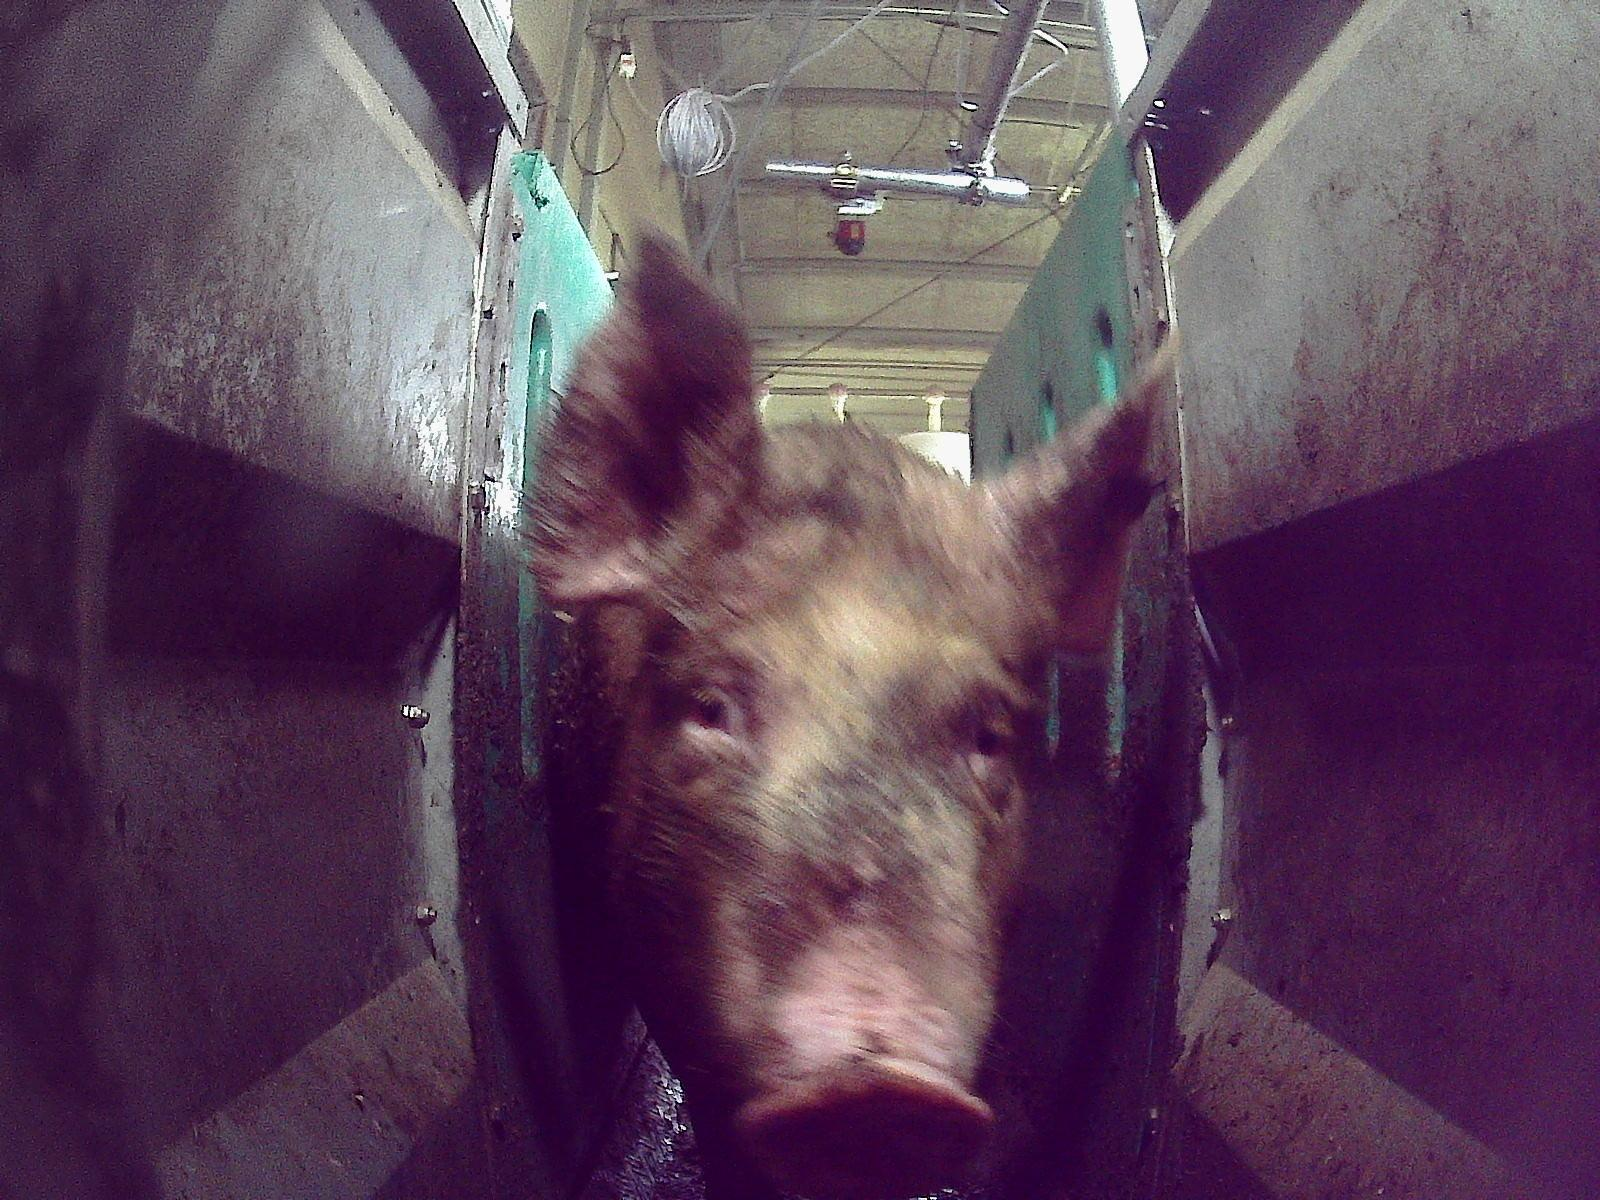Face: (601, 480, 1029, 1199)
